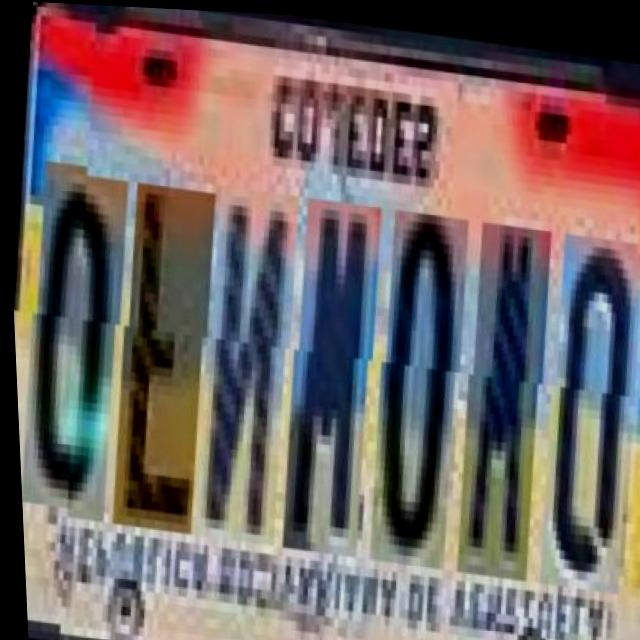0: (523, 216, 640, 578)
f: (96, 179, 215, 531)
n: (179, 177, 299, 539)
o: (6, 168, 127, 521), (354, 196, 469, 558)
w: (267, 187, 382, 549), (441, 207, 551, 569)
